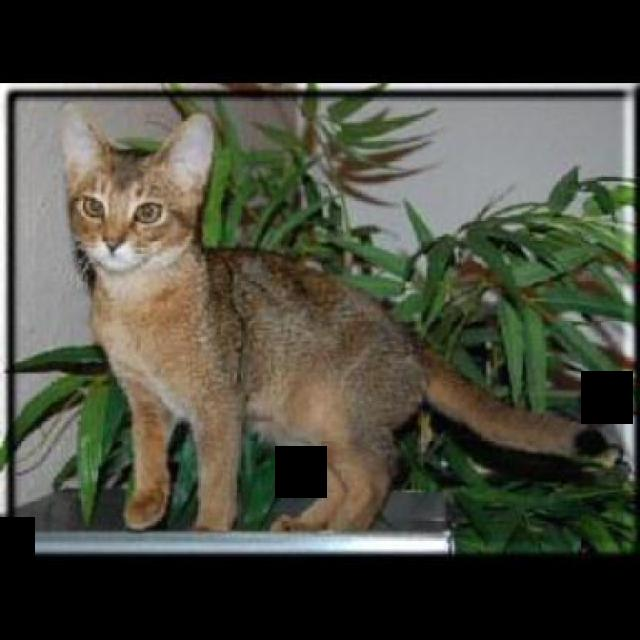unauthorized: (56, 100, 624, 532)
